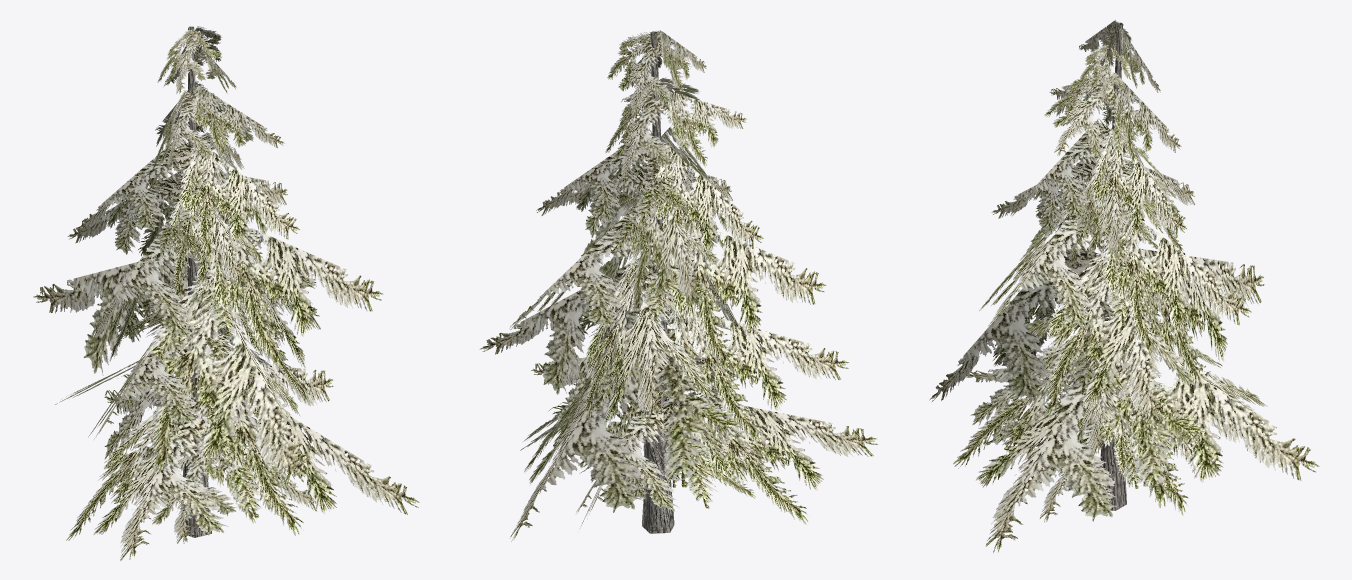
The model's file is Tree02.fbx.
3 renders of one model, left to right at view 1: azimuth 30°, elevation 25°; view 2: azimuth 150°, elevation 25°; view 3: azimuth 270°, elevation 25°, orthographic. The views are drawn at different scales.
Visible parts, largest first — view 1: Tree_Pine_Snowy_T3; view 2: Tree_Pine_Snowy_T3; view 3: Tree_Pine_Snowy_T3.
Part boxes in pixels (left/top/right/bottom): Tree_Pine_Snowy_T3: left=33, top=26, right=419, bottom=560; Tree_Pine_Snowy_T3: left=479, top=30, right=877, bottom=541; Tree_Pine_Snowy_T3: left=929, top=20, right=1319, bottom=552.
Bounding box in the file's own units: 8.23 × 12.74 × 9.36.
